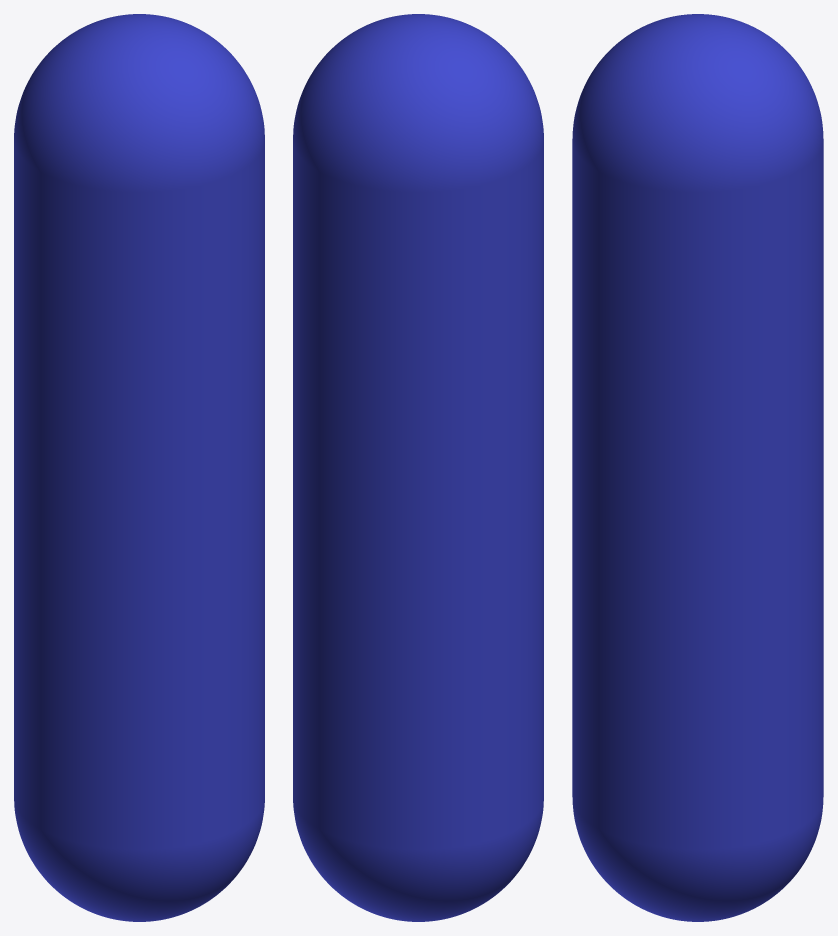
Rendered from Leg.fbx.
3 views of the same model, side by side, from view 1: azimuth 30°, elevation 25°; view 2: azimuth 150°, elevation 25°; view 3: azimuth 270°, elevation 25° (orthographic).
Parts seen in each view (by area): view 1: root; view 2: root; view 3: root.
Boxes of the visible parts, x1,y1,x2,y2 form: root: (14,14,264,921); root: (293,14,543,921); root: (572,14,823,921).
Bounding box in the file's own units: 0.0429 × 0.1668 × 0.0429.
